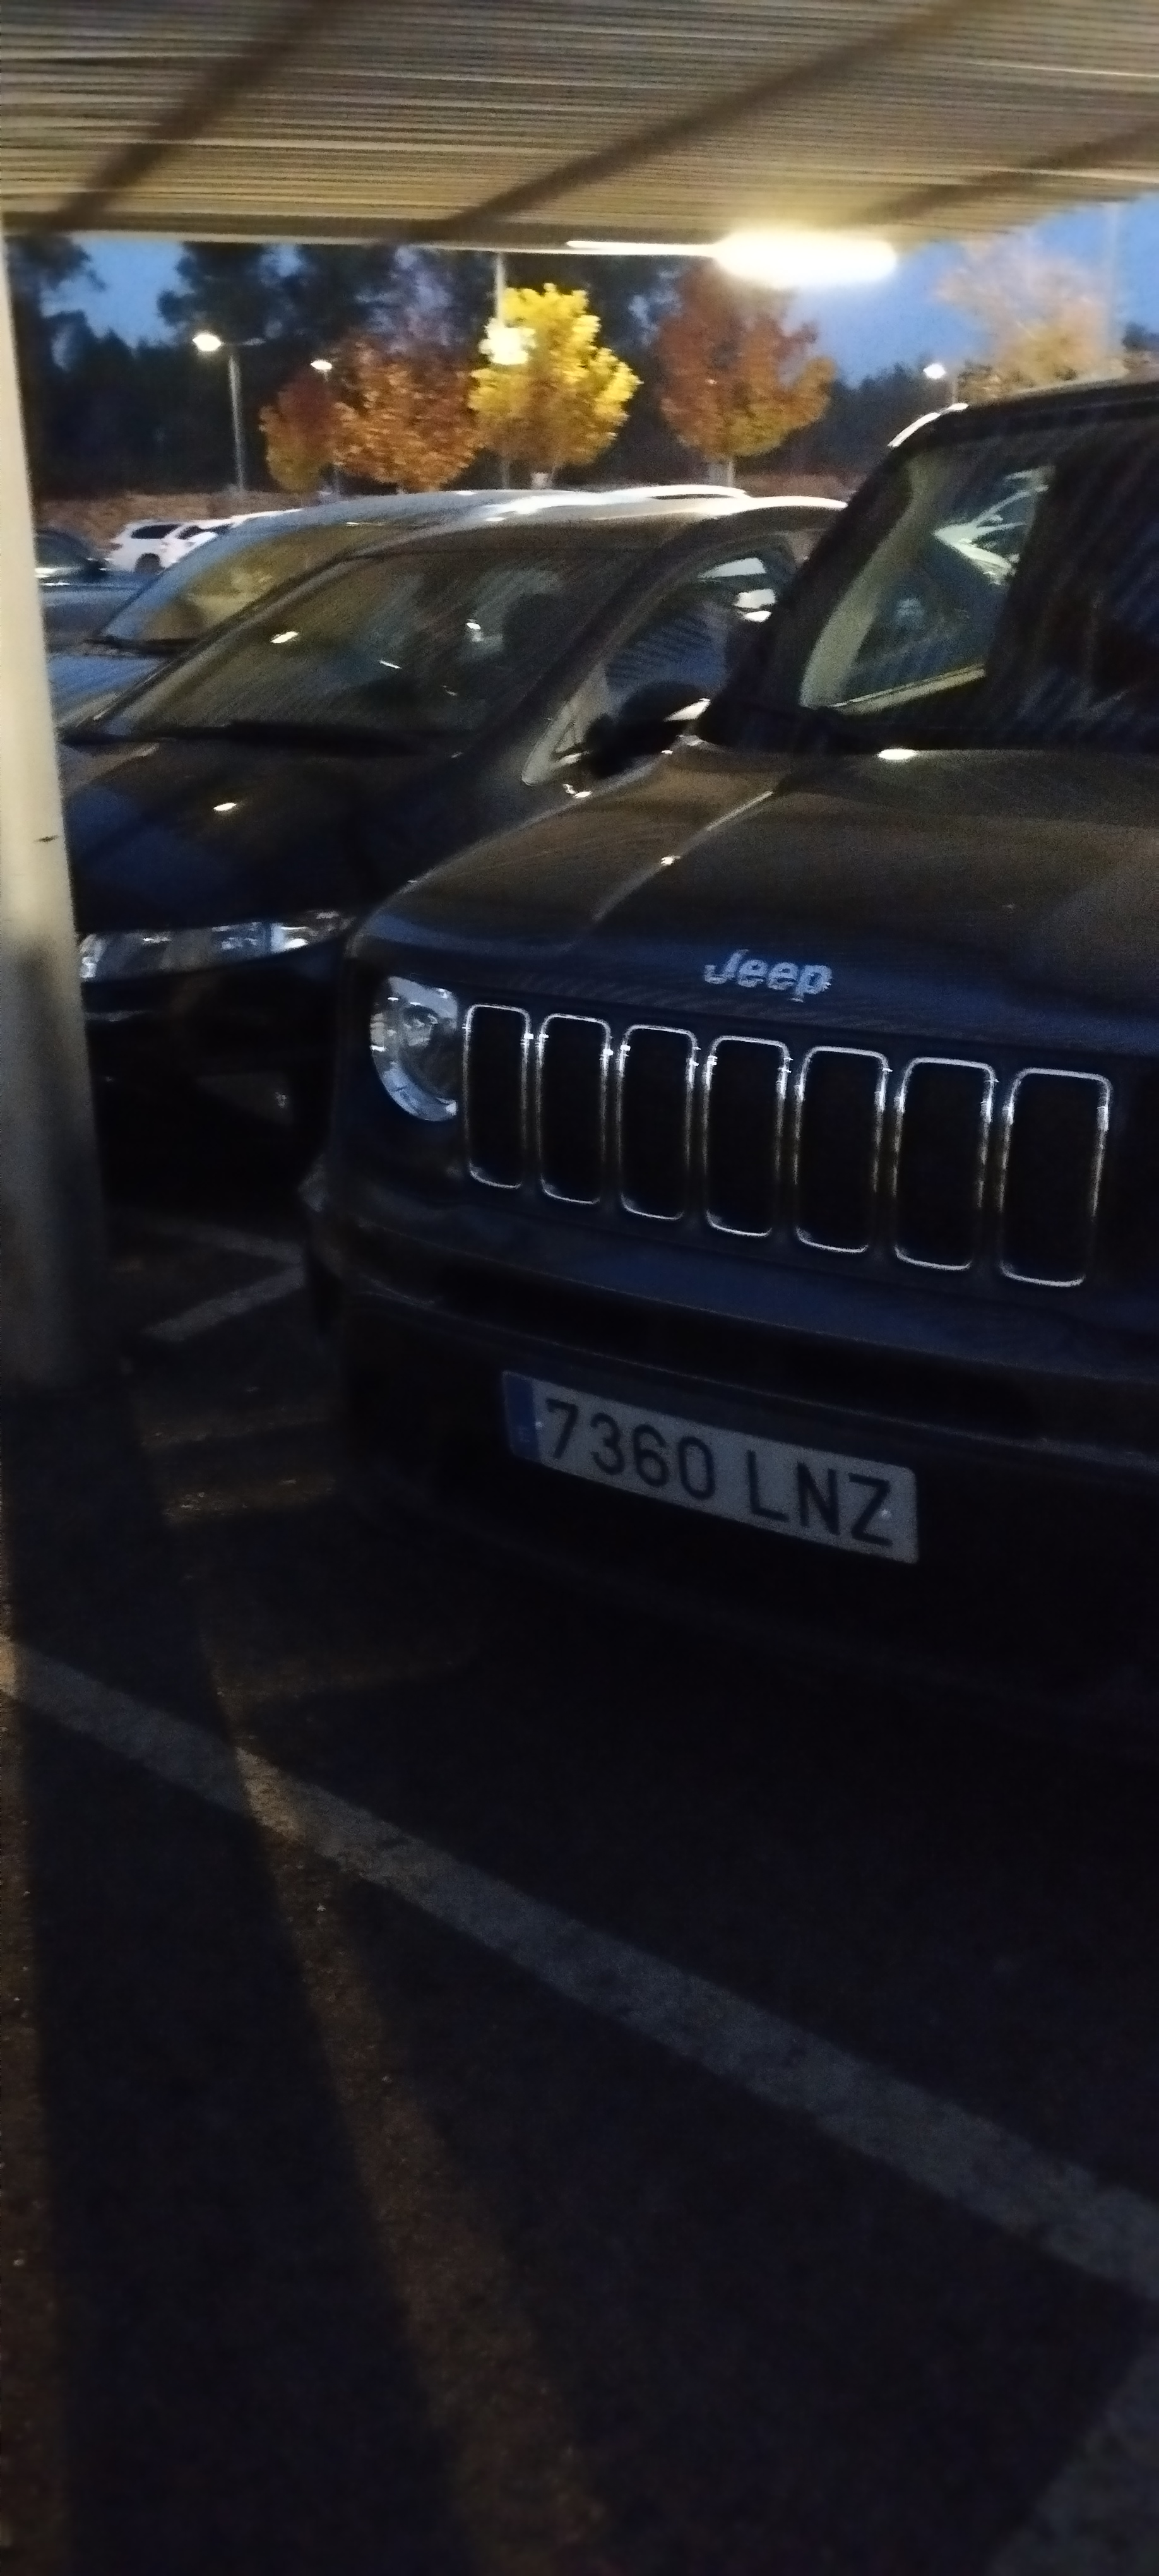Car: (328, 338, 1158, 1614)
Plate: (521, 1382, 950, 1470)
